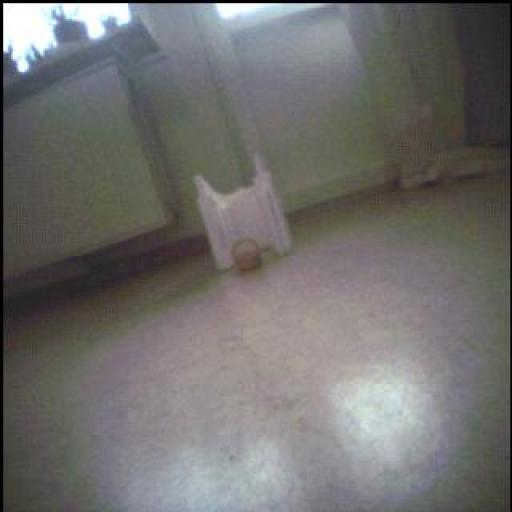Basket: (227, 237, 264, 275)
